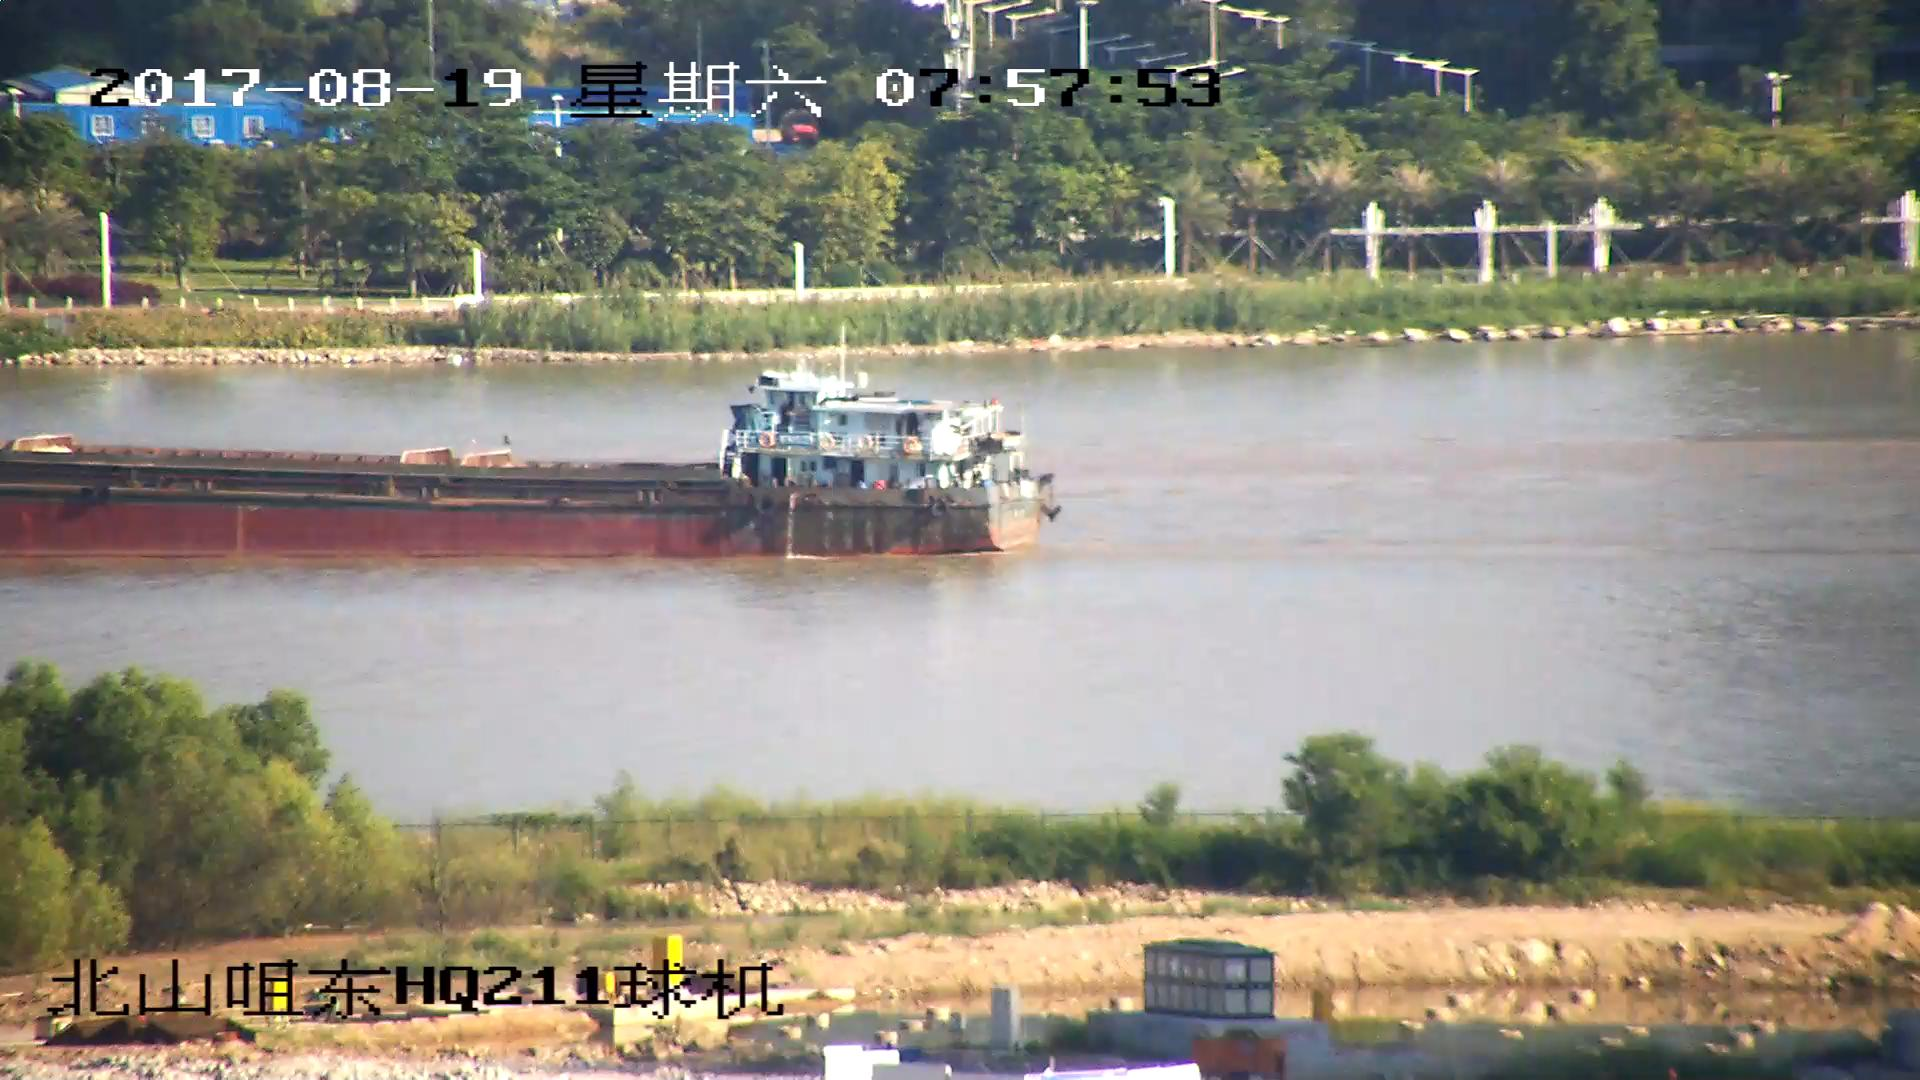bulk cargo carrier: (1, 356, 1058, 555)
